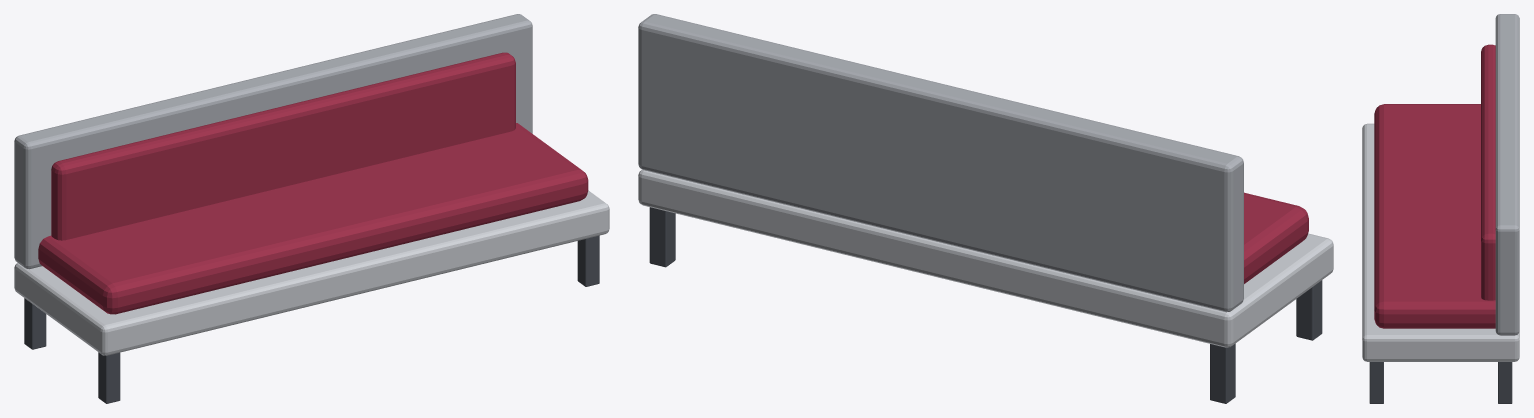
The model's file is sofa_bench_sofa.glb.
3 renders of one model, left to right at view 1: azimuth 30°, elevation 25°; view 2: azimuth 150°, elevation 25°; view 3: azimuth 270°, elevation 25°, orthographic. The views are drawn at different scales.
Parts seen in each view (by area): view 1: GD_sofa_bench_sofa__m2, GD_sofa_bench_sofa__m0, GD_sofa_bench_sofa__m3, GD_sofa_bench_sofa__m1; view 2: GD_sofa_bench_sofa__m3, GD_sofa_bench_sofa__m0, GD_sofa_bench_sofa__m1, GD_sofa_bench_sofa__m2; view 3: GD_sofa_bench_sofa__m2, GD_sofa_bench_sofa__m3, GD_sofa_bench_sofa__m0, GD_sofa_bench_sofa__m1.
Boxes of the visible parts, box(x1,y1,x2,y2) form: GD_sofa_bench_sofa__m2: box(38, 52, 588, 314); GD_sofa_bench_sofa__m0: box(14, 190, 609, 355); GD_sofa_bench_sofa__m3: box(14, 14, 532, 269); GD_sofa_bench_sofa__m1: box(24, 235, 599, 403); GD_sofa_bench_sofa__m3: box(638, 14, 1243, 312); GD_sofa_bench_sofa__m0: box(638, 169, 1333, 347); GD_sofa_bench_sofa__m1: box(649, 207, 1322, 403); GD_sofa_bench_sofa__m2: box(1244, 192, 1308, 283); GD_sofa_bench_sofa__m2: box(1374, 44, 1495, 328); GD_sofa_bench_sofa__m3: box(1495, 14, 1519, 335); GD_sofa_bench_sofa__m0: box(1362, 123, 1519, 361); GD_sofa_bench_sofa__m1: box(1369, 362, 1512, 403).
Bounding box in the file's own units: 2.1 × 0.82 × 0.65.
